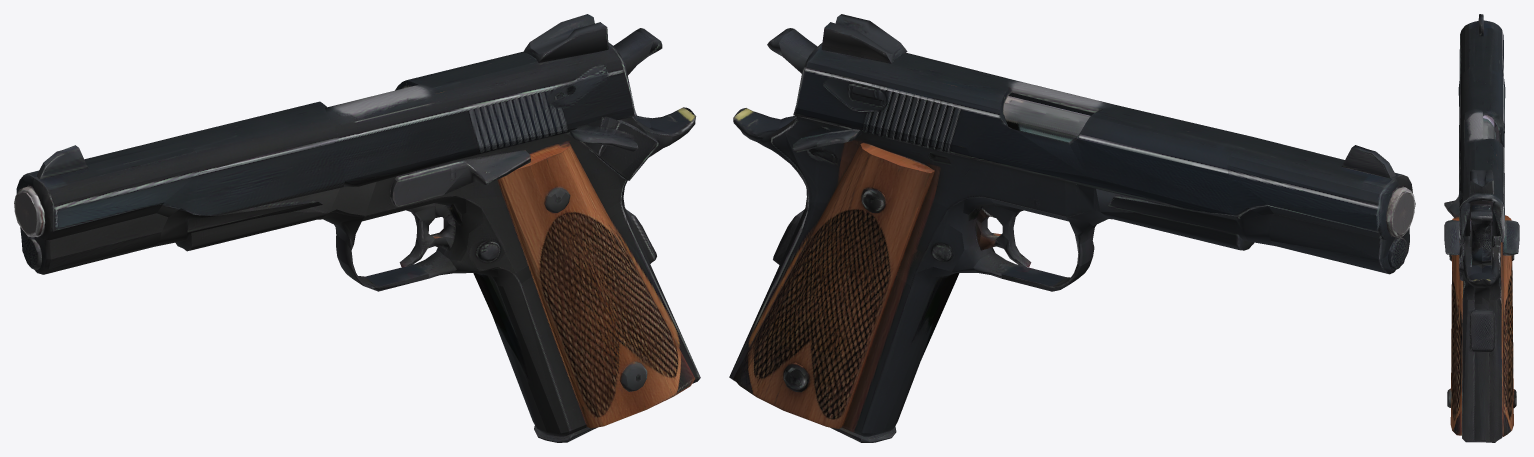
File: automatic.glb
The picture shows the model from 3 angles, left to right: view 1: azimuth 30°, elevation 25°; view 2: azimuth 150°, elevation 25°; view 3: azimuth 270°, elevation 25°; orthographic projection. The views are drawn at different scales.
Bounding box in the file's own units: 1 × 0.582 × 0.1567.
1 material, 1 textured.
